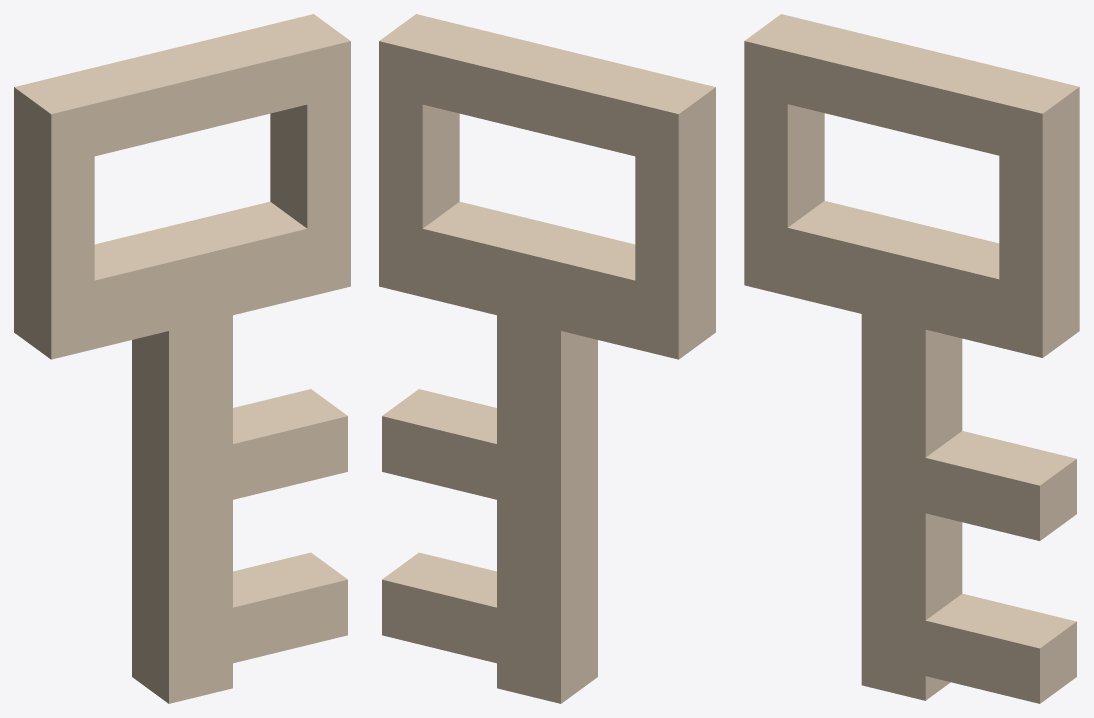
File: Key.fbx
3 views of the same model, side by side, from view 1: azimuth 30°, elevation 25°; view 2: azimuth 150°, elevation 25°; view 3: azimuth 330°, elevation 25° (orthographic).
Parts seen in each view (by area): view 1: Cube; view 2: Cube; view 3: Cube.
Part boxes in pixels (x1=…): Cube: x1=14, y1=14, x2=350, y2=703; Cube: x1=379, y1=14, x2=715, y2=703; Cube: x1=744, y1=14, x2=1079, y2=703.
Bounding box in the file's own units: 173 × 341 × 37.06.
